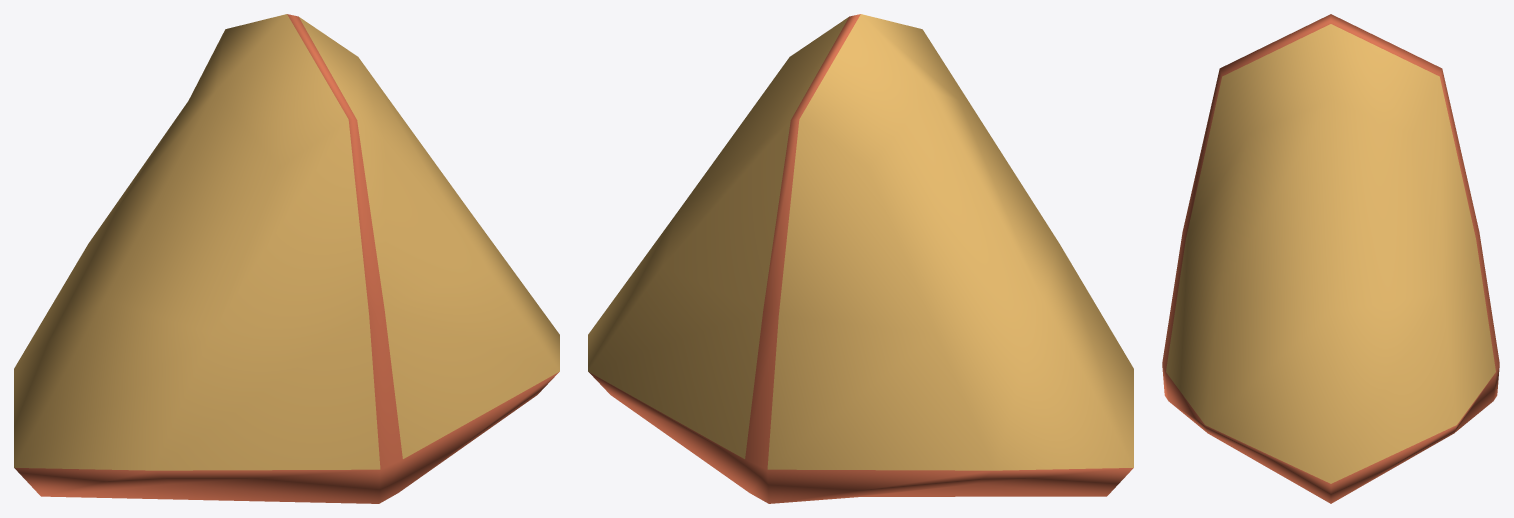
File: samosa.fbx
3 views of the same model, side by side, from view 1: azimuth 30°, elevation 25°; view 2: azimuth 150°, elevation 25°; view 3: azimuth 270°, elevation 25° (orthographic). The views are drawn at different scales.
Parts seen in each view (by area): view 1: pCube4; view 2: pCube4; view 3: pCube4.
Boxes of the visible parts, box(x1,y1,x2,y2) form: pCube4: box(14, 14, 559, 503); pCube4: box(588, 14, 1133, 503); pCube4: box(1162, 14, 1499, 503).
Size of the model in its own units: 0.832 by 0.7035 by 0.4936.
